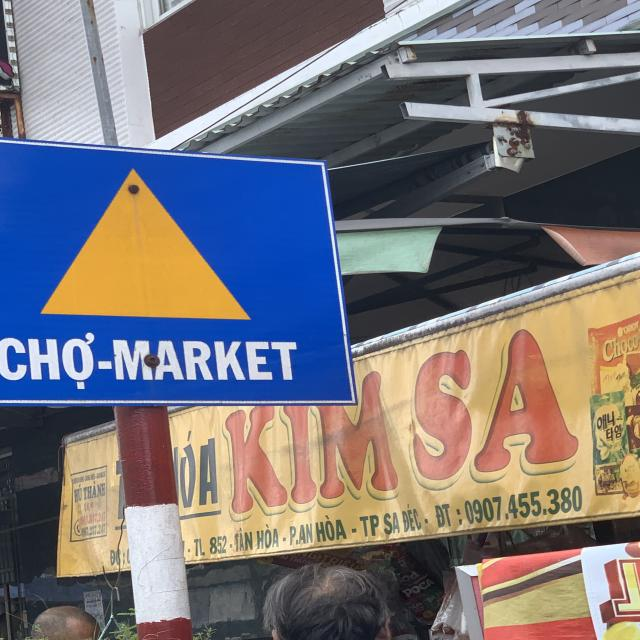Cho_Quay_Xe: (0, 142, 354, 408)
